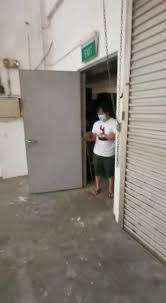exit: (78, 53, 117, 211)
unlit_exit_sign: (81, 39, 97, 61)
